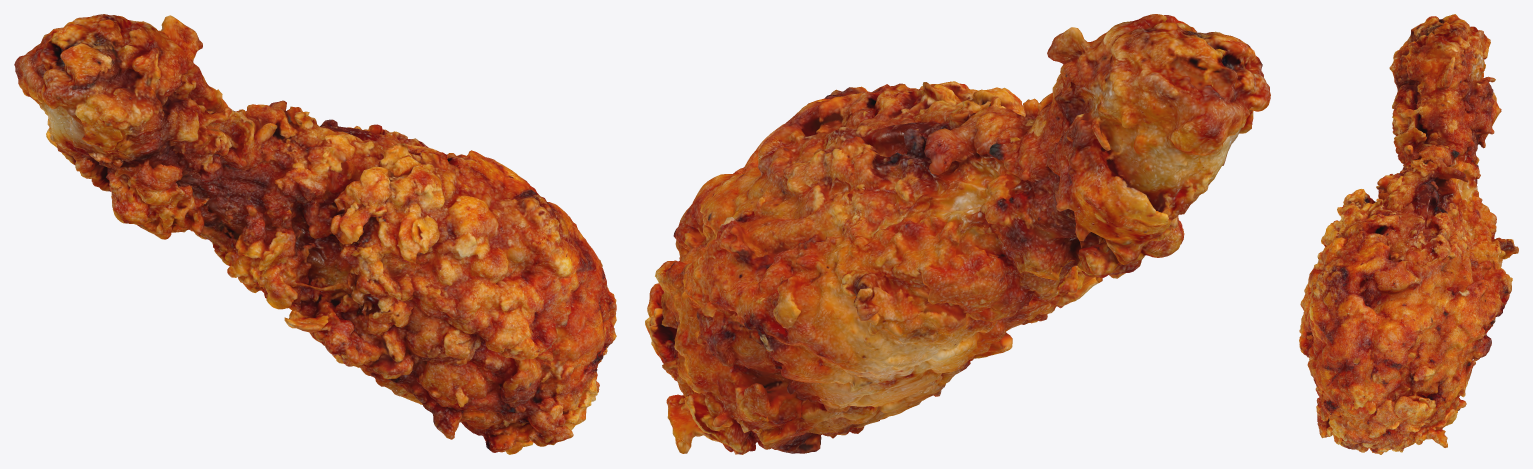
File: krispy_fried_chicken.glb
The picture shows the model from 3 angles, left to right: view 1: azimuth 30°, elevation 25°; view 2: azimuth 150°, elevation 25°; view 3: azimuth 270°, elevation 25°; orthographic projection. The views are drawn at different scales.
Visible parts, largest first — view 1: Object_2; view 2: Object_2; view 3: Object_2.
Part boxes in pixels (x1,y1,x2,y2): Object_2: [14, 14, 616, 454]; Object_2: [645, 14, 1270, 454]; Object_2: [1299, 14, 1518, 454].
Bounding box in the file's own units: 0.5437 × 0.4644 × 0.2983.
Materials: 1 (1 with a texture image).
